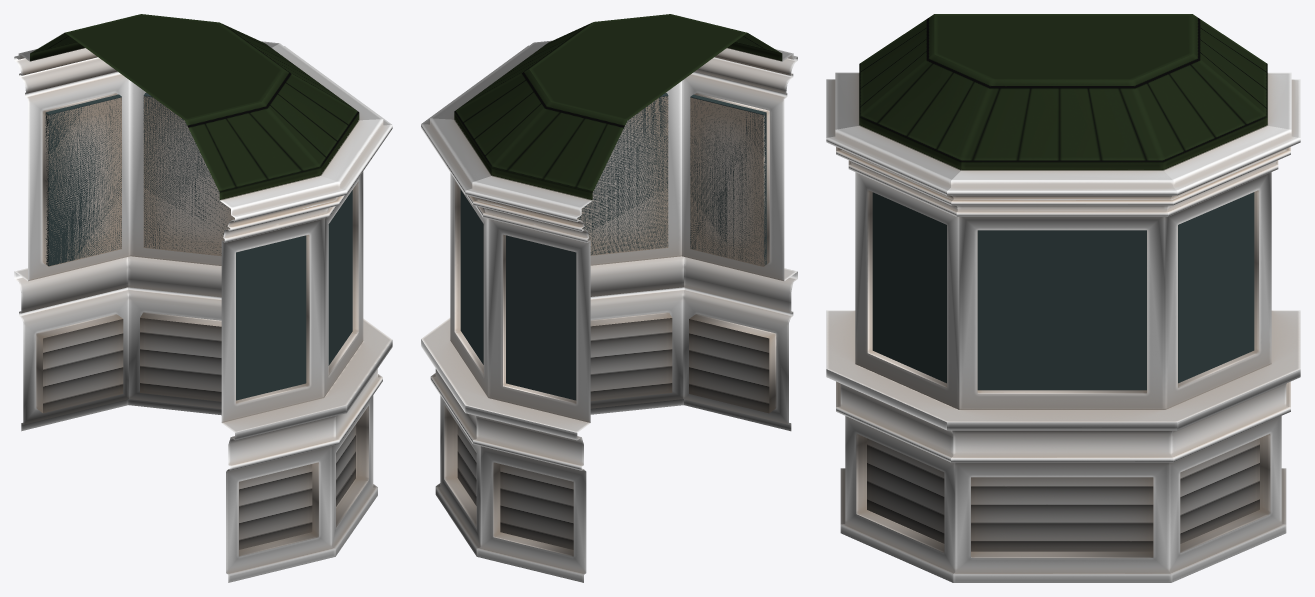
Rendered from Window_Hexagon.fbx.
3 renders of one model, left to right at view 1: azimuth 30°, elevation 25°; view 2: azimuth 150°, elevation 25°; view 3: azimuth 270°, elevation 25°, orthographic. The views are drawn at different scales.
Visible parts, largest first — view 1: U_Window_Hexagon, U_Window_Hexagon_Glass; view 2: U_Window_Hexagon, U_Window_Hexagon_Glass; view 3: U_Window_Hexagon, U_Window_Hexagon_Glass.
Part boxes in pixels (x1,y1,x2,y2): U_Window_Hexagon: [14, 14, 392, 582]; U_Window_Hexagon_Glass: [45, 93, 352, 400]; U_Window_Hexagon: [421, 14, 797, 582]; U_Window_Hexagon_Glass: [460, 93, 766, 400]; U_Window_Hexagon: [826, 14, 1300, 582]; U_Window_Hexagon_Glass: [872, 192, 1254, 390].
Size of the model in its own units: 169 by 326 by 303.
2 materials, 1 textured.
